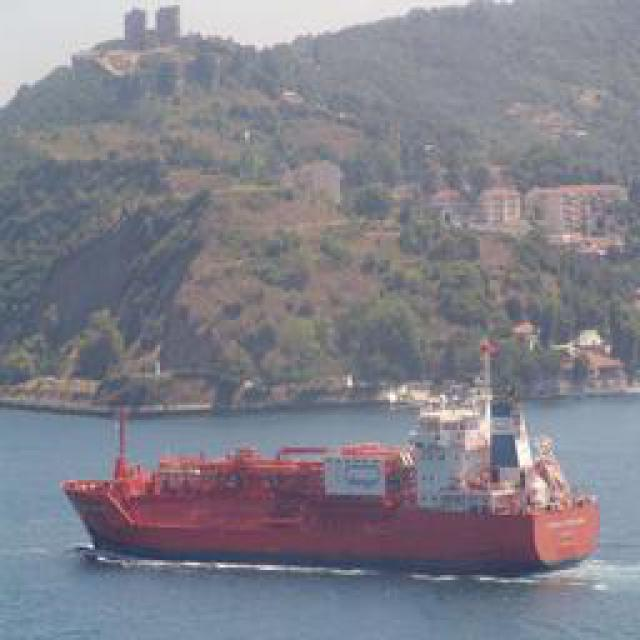Ship: (62, 315, 605, 575)
